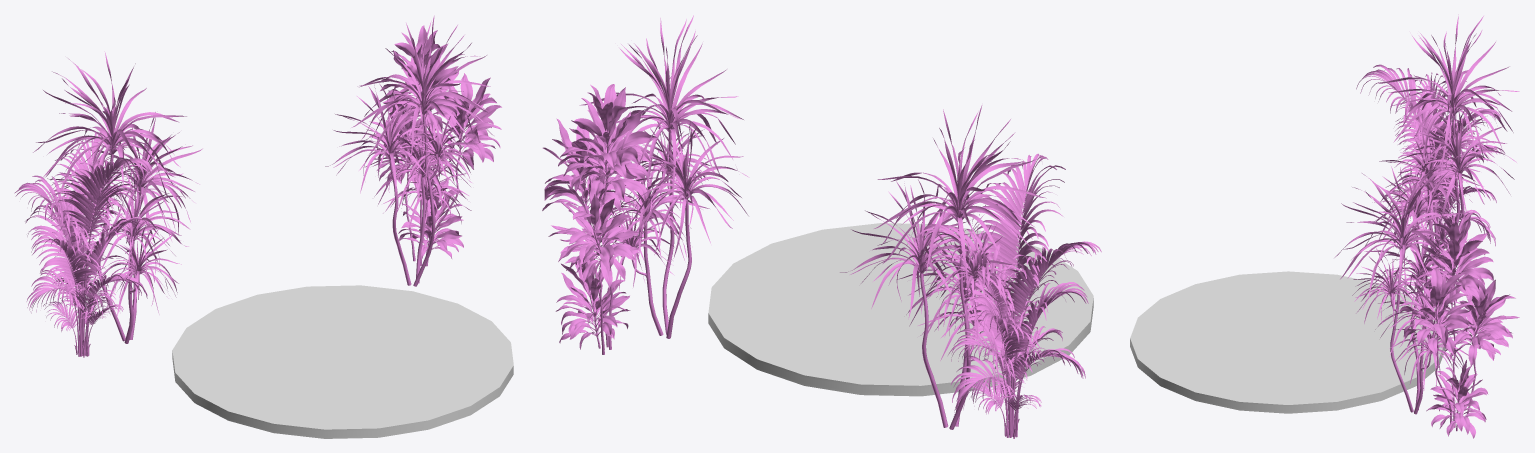
3 renders of one model, left to right at view 1: azimuth 30°, elevation 25°; view 2: azimuth 150°, elevation 25°; view 3: azimuth 270°, elevation 25°, orthographic. The views are drawn at different scales.
Visible parts, largest first — view 1: Cylinder.1, DYPSIS_LUTESCENS, DRACAENA_MARGINATA.1, DRACAENA_MARGINATA, CORDYLINE_FRUCTICOSA; view 2: Cylinder.1, DYPSIS_LUTESCENS, CORDYLINE_FRUCTICOSA, DRACAENA_MARGINATA.1, DRACAENA_MARGINATA; view 3: Cylinder.1, CORDYLINE_FRUCTICOSA, DRACAENA_MARGINATA.1, DRACAENA_MARGINATA, DYPSIS_LUTESCENS.
Boxes of the visible parts, <box> form: Cylinder.1: <box>172,285,513,438</box>; DYPSIS_LUTESCENS: <box>14,132,152,357</box>; DRACAENA_MARGINATA.1: <box>33,51,202,343</box>; DRACAENA_MARGINATA: <box>325,15,493,286</box>; CORDYLINE_FRUCTICOSA: <box>369,25,501,266</box>; Cylinder.1: <box>708,223,1093,396</box>; DYPSIS_LUTESCENS: <box>914,153,1101,438</box>; CORDYLINE_FRUCTICOSA: <box>542,84,656,354</box>; DRACAENA_MARGINATA.1: <box>840,105,1046,429</box>; DRACAENA_MARGINATA: <box>579,15,749,338</box>; Cylinder.1: <box>1130,271,1445,413</box>; CORDYLINE_FRUCTICOSA: <box>1399,212,1519,438</box>; DRACAENA_MARGINATA.1: <box>1372,14,1519,268</box>; DRACAENA_MARGINATA: <box>1334,166,1469,414</box>; DYPSIS_LUTESCENS: <box>1356,64,1505,270</box>.
Bounding box in the file's own units: 563 × 314 × 428.
